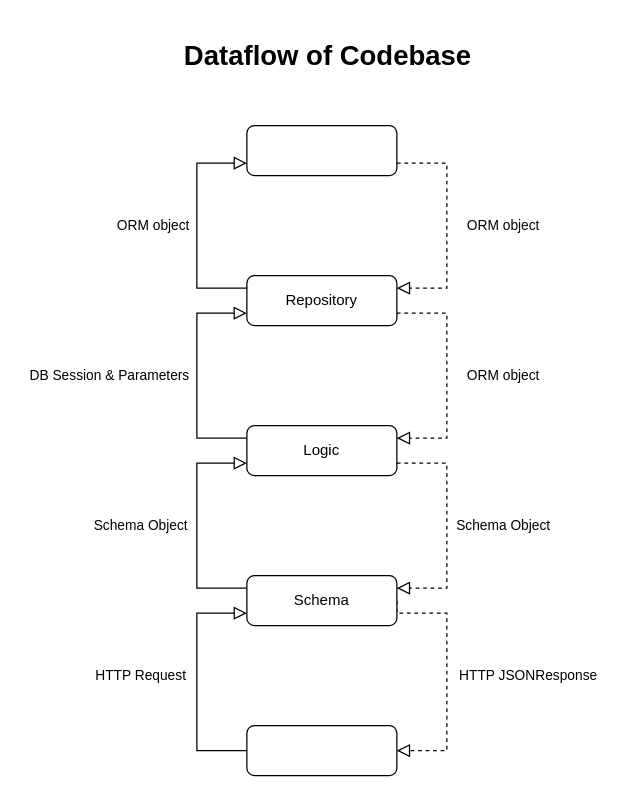
The diagram is 630 pixels wide and 798 high, and some of its shapes have lost their labels. The centre of each missing label's shape, as x and y in pixels:
"Model" goes at point (321, 150).
"Routing" goes at point (321, 750).
